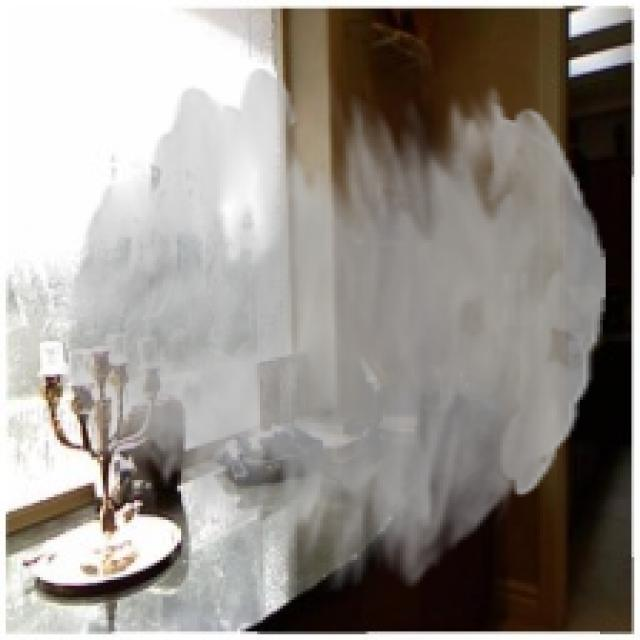Smoke: (65, 69, 606, 592)
